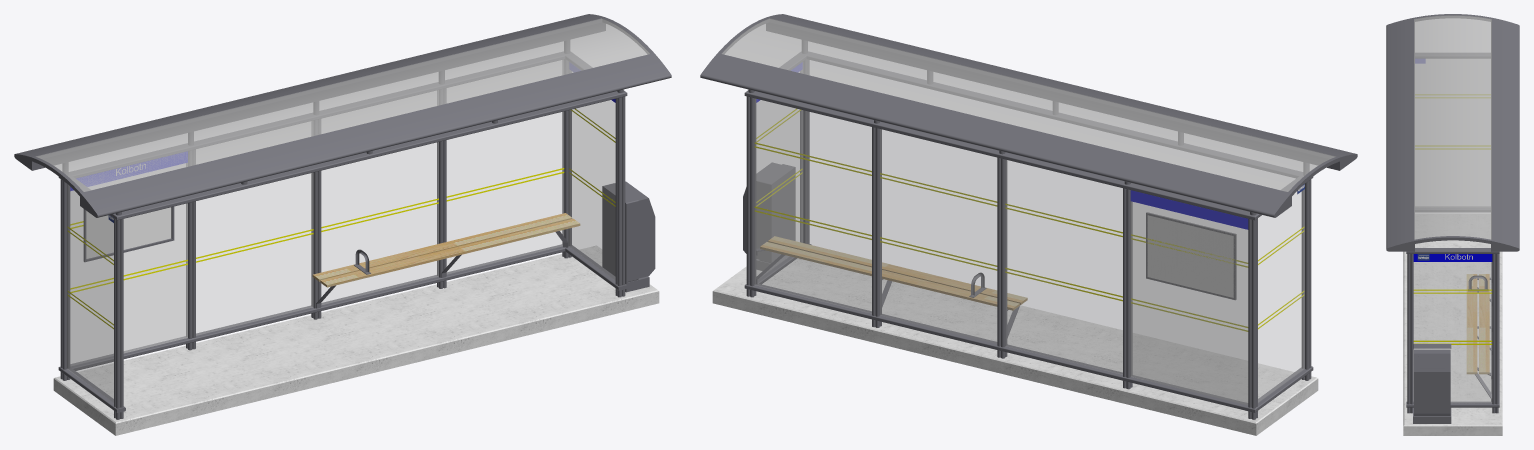
The model's file is 1301008-4-felt-1030.glb.
3 renders of one model, left to right at view 1: azimuth 30°, elevation 25°; view 2: azimuth 150°, elevation 25°; view 3: azimuth 270°, elevation 25°, orthographic. The views are drawn at different scales.
Visible parts, largest first — view 1: Mesh2 Fundament_C90_4_felt_1030_1 G_1301008_1 Model, Mesh62 Takplate_1030_4_felt1 G_1301008_1 Model, Mesh85 Takdrager_1030_4_felt1 G_1301008_1 Model, Mesh31 Glass_herdet_1350x2040_3 G_1301008_1 Model, Mesh82 Glass_herdet_1350x2040_5 G_1301008_1 Model, Mesh46 Glass_herdet_1350x2040_4 G_1301008_1 Model, Mesh89 Takdrager_1030_4_felt2 G_1301008_1 Model, Mesh17 Glass_herdet_680x2040_1_1 G_1301008_1 Model, Mesh81 Galleriramme_1030_4_felt1 G_1301008_1 Model, Mesh87 Glass_herdet_680x2040_1_2 G_1301008_1 Model, Mesh28 Glass_herdet_1350x2040_1 G_1301008_1 Model, Mesh29 Glass_herdet_1350x2040_2 G_1301008_1 Model (+13 smaller); view 2: Mesh2 Fundament_C90_4_felt_1030_1 G_1301008_1 Model, Mesh62 Takplate_1030_4_felt1 G_1301008_1 Model, Mesh46 Glass_herdet_1350x2040_4 G_1301008_1 Model, Mesh31 Glass_herdet_1350x2040_3 G_1301008_1 Model, Mesh82 Glass_herdet_1350x2040_5 G_1301008_1 Model, Mesh28 Glass_herdet_1350x2040_1 G_1301008_1 Model, Mesh29 Glass_herdet_1350x2040_2 G_1301008_1 Model, Mesh89 Takdrager_1030_4_felt2 G_1301008_1 Model, Mesh85 Takdrager_1030_4_felt1 G_1301008_1 Model, Mesh17 Glass_herdet_680x2040_1_1 G_1301008_1 Model, Mesh81 Galleriramme_1030_4_felt1 G_1301008_1 Model, Mesh87 Glass_herdet_680x2040_1_2 G_1301008_1 Model (+13 smaller); view 3: Mesh62 Takplate_1030_4_felt1 G_1301008_1 Model, Mesh2 Fundament_C90_4_felt_1030_1 G_1301008_1 Model, Mesh87 Glass_herdet_680x2040_1_2 G_1301008_1 Model, Mesh85 Takdrager_1030_4_felt1 G_1301008_1 Model, Mesh89 Takdrager_1030_4_felt2 G_1301008_1 Model, Mesh13 S_ppelkasse_70_L1 G_1301008_1 Model, Mesh36 Bunnsarg_1030_4_felt1 G_1301008_1 Model, Mesh53 Benkeplanke2 Benk_2_felt1 G_1301008_1 Model, Mesh80 Stolpeprofil_2017_6 G_1301008_1 Model, Mesh1 Stolpeprofil_2017_1 G_1301008_1 Model, Mesh50 Benkeplanke1 Benk_2_felt1 G_1301008_1 Model, Mesh81 Galleriramme_1030_4_felt1 G_1301008_1 Model (+9 smaller).
Boxes of the visible parts, x1,y1,x2,y2 form: Mesh2 Fundament_C90_4_felt_1030_1 G_1301008_1 Model: (53, 245, 659, 435); Mesh62 Takplate_1030_4_felt1 G_1301008_1 Model: (36, 18, 650, 191); Mesh85 Takdrager_1030_4_felt1 G_1301008_1 Model: (80, 53, 671, 217); Mesh31 Glass_herdet_1350x2040_3 G_1301008_1 Model: (196, 173, 313, 335); Mesh82 Glass_herdet_1350x2040_5 G_1301008_1 Model: (321, 142, 438, 304); Mesh46 Glass_herdet_1350x2040_4 G_1301008_1 Model: (447, 111, 563, 274); Mesh89 Takdrager_1030_4_felt2 G_1301008_1 Model: (14, 14, 605, 170); Mesh17 Glass_herdet_680x2040_1_1 G_1301008_1 Model: (67, 184, 113, 402); Mesh81 Galleriramme_1030_4_felt1 G_1301008_1 Model: (58, 52, 627, 220); Mesh87 Glass_herdet_680x2040_1_2 G_1301008_1 Model: (569, 99, 615, 279); Mesh28 Glass_herdet_1350x2040_1 G_1301008_1 Model: (124, 203, 187, 352); Mesh29 Glass_herdet_1350x2040_2 G_1301008_1 Model: (124, 203, 187, 352); Mesh2 Fundament_C90_4_felt_1030_1 G_1301008_1 Model: (712, 258, 1318, 435); Mesh62 Takplate_1030_4_felt1 G_1301008_1 Model: (721, 18, 1335, 191); Mesh46 Glass_herdet_1350x2040_4 G_1301008_1 Model: (754, 99, 871, 313); Mesh31 Glass_herdet_1350x2040_3 G_1301008_1 Model: (1005, 160, 1122, 374); Mesh82 Glass_herdet_1350x2040_5 G_1301008_1 Model: (880, 129, 996, 343); Mesh28 Glass_herdet_1350x2040_1 G_1301008_1 Model: (1131, 191, 1247, 404); Mesh29 Glass_herdet_1350x2040_2 G_1301008_1 Model: (1131, 191, 1247, 404); Mesh89 Takdrager_1030_4_felt2 G_1301008_1 Model: (700, 53, 1291, 217); Mesh85 Takdrager_1030_4_felt1 G_1301008_1 Model: (766, 14, 1357, 170); Mesh17 Glass_herdet_680x2040_1_1 G_1301008_1 Model: (1258, 189, 1304, 402); Mesh81 Galleriramme_1030_4_felt1 G_1301008_1 Model: (744, 52, 1313, 220); Mesh87 Glass_herdet_680x2040_1_2 G_1301008_1 Model: (756, 99, 802, 275); Mesh62 Takplate_1030_4_felt1 G_1301008_1 Model: (1414, 15, 1491, 239); Mesh2 Fundament_C90_4_felt_1030_1 G_1301008_1 Model: (1403, 214, 1502, 435); Mesh87 Glass_herdet_680x2040_1_2 G_1301008_1 Model: (1414, 262, 1491, 402); Mesh85 Takdrager_1030_4_felt1 G_1301008_1 Model: (1386, 17, 1414, 251); Mesh89 Takdrager_1030_4_felt2 G_1301008_1 Model: (1491, 17, 1519, 251); Mesh13 S_ppelkasse_70_L1 G_1301008_1 Model: (1413, 344, 1451, 423); Mesh36 Bunnsarg_1030_4_felt1 G_1301008_1 Model: (1406, 207, 1499, 407); Mesh53 Benkeplanke2 Benk_2_felt1 G_1301008_1 Model: (1466, 274, 1477, 374); Mesh80 Stolpeprofil_2017_6 G_1301008_1 Model: (1492, 254, 1498, 404); Mesh1 Stolpeprofil_2017_1 G_1301008_1 Model: (1407, 254, 1413, 404); Mesh50 Benkeplanke1 Benk_2_felt1 G_1301008_1 Model: (1479, 274, 1489, 374); Mesh81 Galleriramme_1030_4_felt1 G_1301008_1 Model: (1406, 53, 1499, 253).
Size of the model in its own units: 6416 by 2663 by 1615.
Materials: 11 (3 with a texture image).
